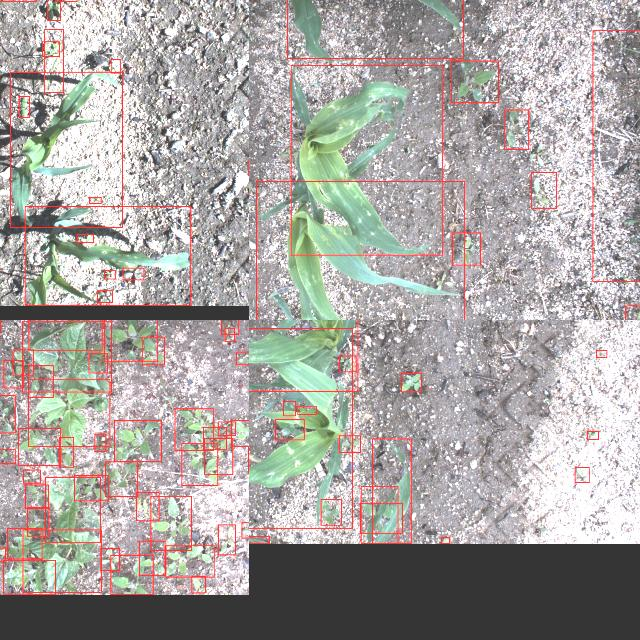crop: (256, 181, 464, 320), (290, 65, 442, 255), (249, 328, 351, 528), (10, 72, 122, 228), (24, 207, 190, 306), (287, 0, 463, 58), (249, 320, 357, 391), (21, 321, 110, 392), (28, 379, 108, 446), (22, 530, 100, 592), (372, 438, 411, 544), (44, 477, 100, 543), (360, 486, 398, 544), (28, 320, 101, 349), (249, 536, 269, 543)
weed: (592, 30, 640, 281), (103, 320, 156, 361), (150, 496, 190, 550), (450, 60, 498, 102), (114, 421, 160, 462), (3, 560, 55, 594), (110, 555, 152, 595), (174, 408, 213, 450), (18, 428, 60, 466), (181, 442, 217, 486), (164, 546, 213, 578), (359, 503, 401, 533), (44, 29, 62, 92), (105, 462, 137, 496), (6, 529, 42, 559), (204, 438, 232, 474), (504, 109, 528, 149), (138, 541, 166, 575), (530, 172, 556, 208), (452, 233, 481, 265), (74, 476, 108, 500), (28, 365, 52, 397), (141, 337, 163, 365), (136, 492, 158, 520), (274, 420, 304, 440), (27, 508, 48, 536), (24, 485, 48, 509), (3, 360, 23, 388), (0, 395, 14, 433), (320, 499, 340, 525), (218, 525, 235, 555), (202, 427, 225, 449), (58, 438, 74, 468), (12, 350, 32, 374), (231, 420, 249, 446), (401, 372, 421, 392), (100, 549, 118, 571), (89, 353, 108, 373), (338, 436, 359, 452), (338, 356, 356, 372), (122, 268, 144, 280), (46, 0, 59, 20), (191, 576, 205, 594), (220, 320, 237, 334), (218, 422, 235, 436), (625, 305, 640, 320), (42, 42, 58, 56), (18, 96, 28, 118), (94, 434, 106, 452), (22, 470, 40, 482), (0, 450, 14, 464), (574, 468, 588, 482), (96, 291, 112, 303), (236, 351, 249, 364), (283, 402, 295, 416), (296, 406, 316, 414), (76, 234, 92, 243), (240, 522, 249, 538), (110, 59, 120, 73), (224, 328, 234, 342), (586, 430, 598, 440), (104, 270, 115, 280), (596, 350, 606, 358), (88, 197, 100, 203), (0, 548, 5, 561), (441, 538, 449, 544)
